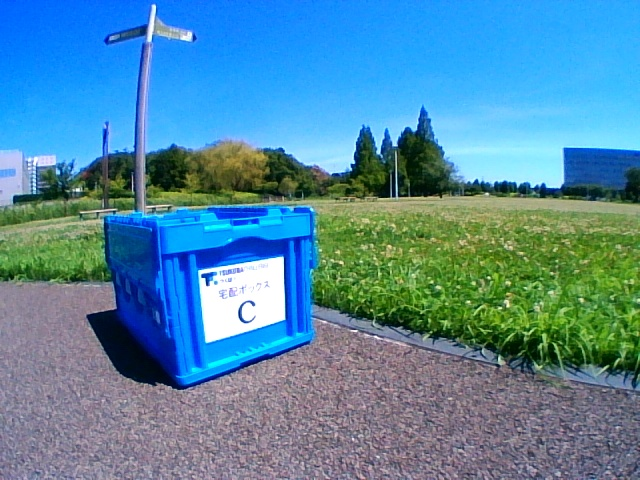blue_box: (104, 206, 316, 387)
tag_c: (213, 270, 272, 325)
